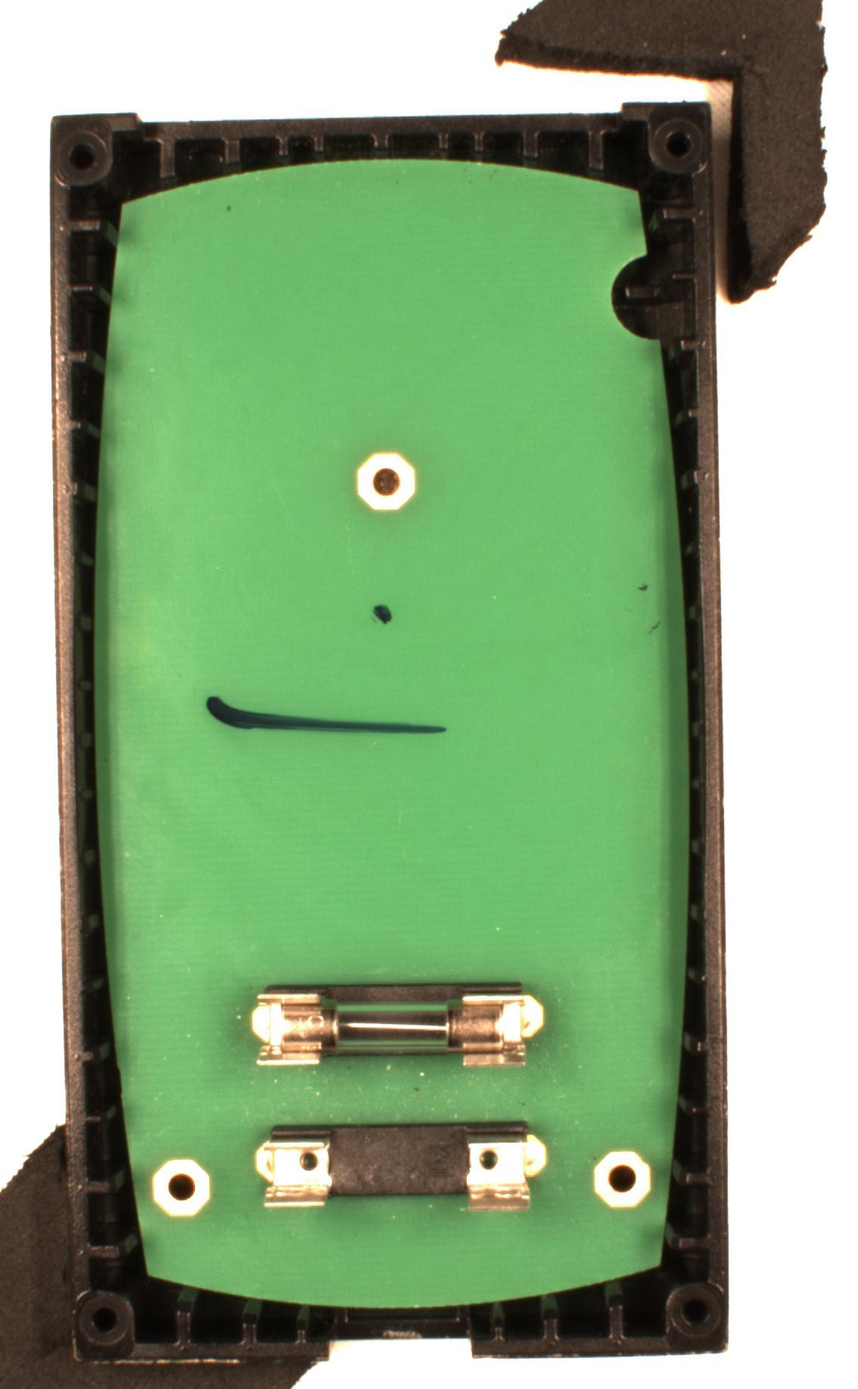Linijsko Ostecene: (201, 693, 450, 740)
Nepostojanje osiguraca: (255, 1118, 551, 1214)
Tockasto Ostecenje: (369, 602, 399, 630)
